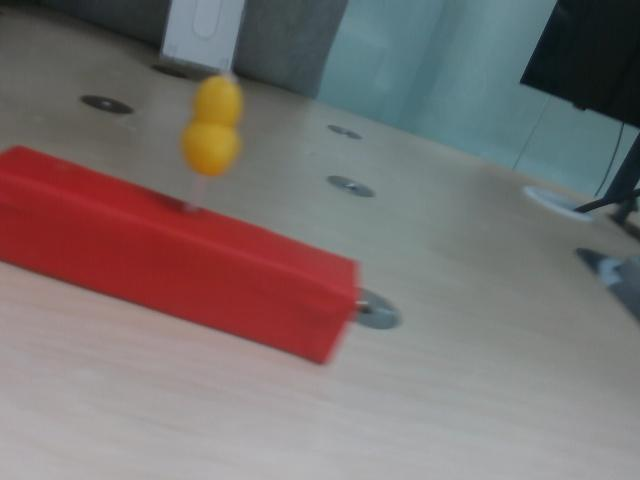y_duck: (171, 59, 256, 210)
